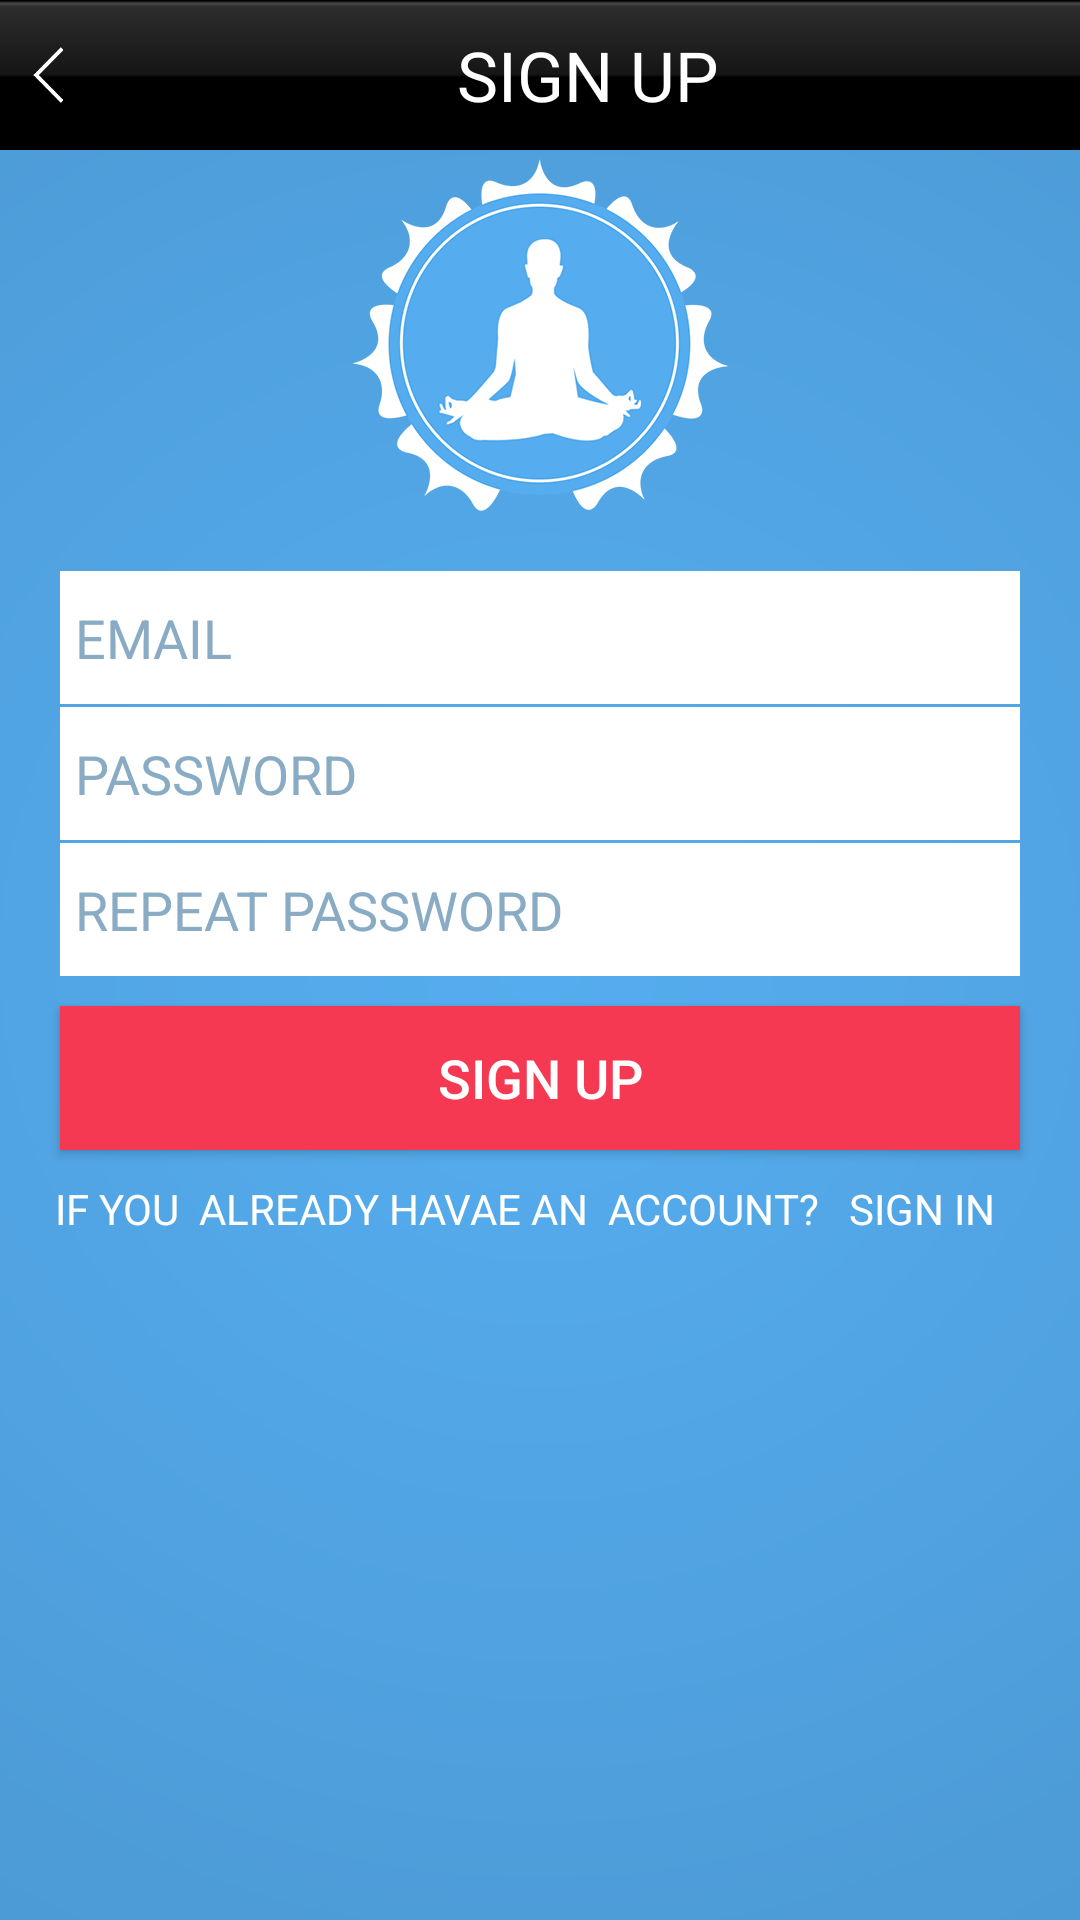

Named icons in this screenshot (1080 x 1920) and their centers, point (x, y):
back: point (48, 75)
